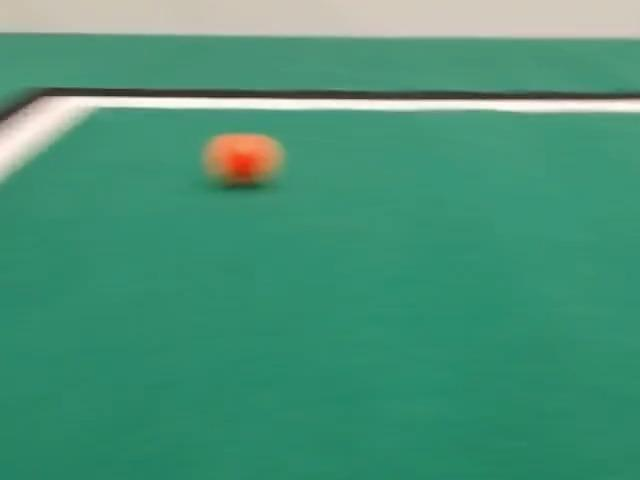Ball: (203, 133, 283, 185)
